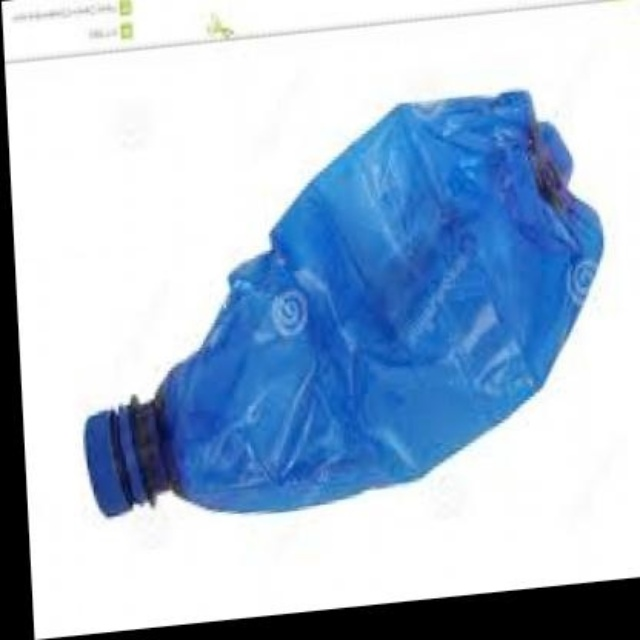trash: (85, 91, 602, 514)
